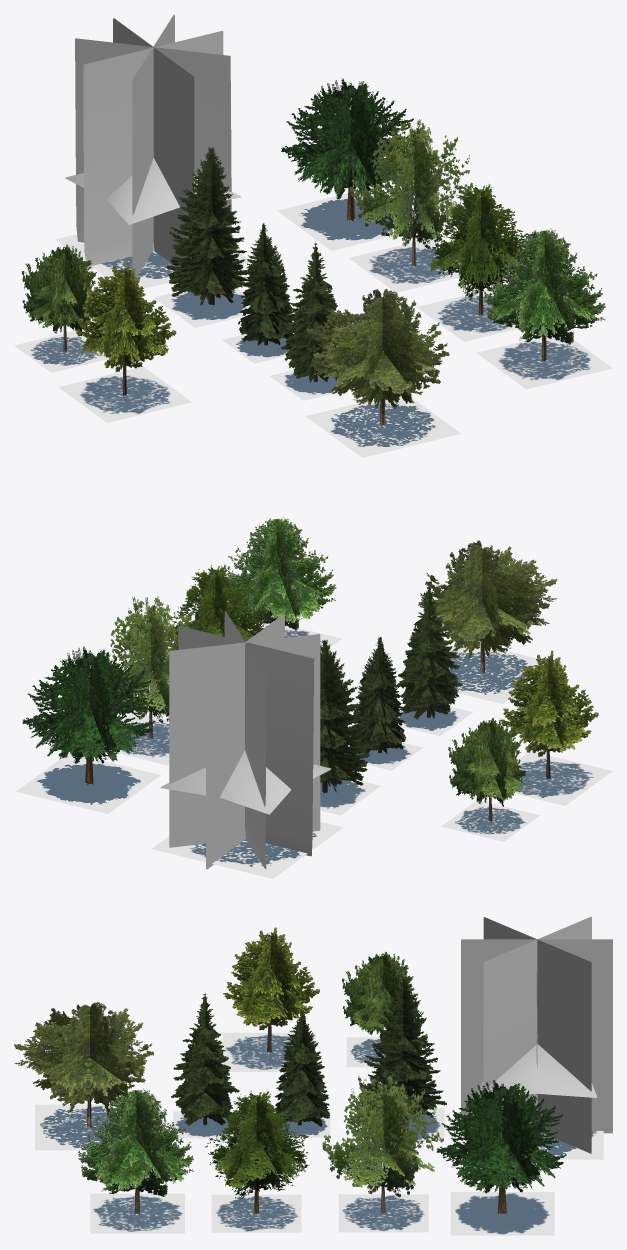
File: Low_Poly_Forest_Pack.fbx
3 renders of one model, top to bottom at view 1: azimuth 30°, elevation 25°; view 2: azimuth 150°, elevation 25°; view 3: azimuth 270°, elevation 25°, orthographic. The views are drawn at different scales.
Visible parts, largest first — view 1: Elm_Tree_Mesh, Maple_Tree_Mesh, Sugar_Maple_Mesh, Beech_Tree_Mesh, AmericanPlane_Tree_Mesh, Pine02, Oak_Tree_Mesh, Corktree_Tree_Mesh, Maple_Tree_Shadow, Birch_Tree_Mesh, Pine01, Corktree_Tree_Shadow (+10 smaller); view 2: Elm_Tree_Mesh, Sugar_Maple_Mesh, Maple_Tree_Mesh, AmericanPlane_Tree_Mesh, Corktree_Tree_Mesh, Beech_Tree_Mesh, Pine03, Pine02, Birch_Tree_Mesh, Sugar_Maple_Shadow, Oak_Tree_Mesh, Pine01 (+8 smaller); view 3: Elm_Tree_Mesh, Maple_Tree_Mesh, Sugar_Maple_Mesh, Beech_Tree_Mesh, AmericanPlane_Tree_Mesh, Oak_Tree_Mesh, Corktree_Tree_Mesh, Pine02, Pine03, Sugar_Maple_Shadow, Pine01, AmericanPlane_Shadow (+10 smaller).
Boxes of the visible parts, <box> form: Elm_Tree_Mesh: <box>65,14,241,277</box>; Maple_Tree_Mesh: <box>306,289,449,425</box>; Sugar_Maple_Mesh: <box>281,78,413,221</box>; Beech_Tree_Mesh: <box>350,119,475,266</box>; AmericanPlane_Tree_Mesh: <box>484,228,605,361</box>; Pine02: <box>166,147,248,305</box>; Oak_Tree_Mesh: <box>427,182,531,315</box>; Corktree_Tree_Mesh: <box>74,262,176,395</box>; Maple_Tree_Shadow: <box>305,395,460,457</box>; Birch_Tree_Mesh: <box>21,244,99,351</box>; Pine01: <box>238,223,293,345</box>; Corktree_Tree_Shadow: <box>58,366,191,422</box>; Elm_Tree_Mesh: <box>160,611,331,869</box>; Sugar_Maple_Mesh: <box>22,646,155,784</box>; Maple_Tree_Mesh: <box>418,540,557,673</box>; AmericanPlane_Tree_Mesh: <box>226,517,336,630</box>; Corktree_Tree_Mesh: <box>499,650,598,779</box>; Beech_Tree_Mesh: <box>89,596,204,739</box>; Pine03: <box>395,581,462,719</box>; Pine02: <box>320,639,370,793</box>; Birch_Tree_Mesh: <box>448,718,528,821</box>; Sugar_Maple_Shadow: <box>16,752,160,813</box>; Oak_Tree_Mesh: <box>167,564,268,649</box>; Pine01: <box>351,637,406,754</box>; Elm_Tree_Mesh: <box>461,917,612,1163</box>; Maple_Tree_Mesh: <box>14,1002,153,1128</box>; Sugar_Maple_Mesh: <box>436,1080,566,1213</box>; Beech_Tree_Mesh: <box>322,1075,443,1213</box>; AmericanPlane_Tree_Mesh: <box>78,1088,193,1213</box>; Oak_Tree_Mesh: <box>205,1089,309,1213</box>; Corktree_Tree_Mesh: <box>223,927,319,1052</box>; Pine02: <box>361,977,446,1125</box>; Pine03: <box>171,993,239,1125</box>; Sugar_Maple_Shadow: <box>450,1192,554,1235</box>; Pine01: <box>274,1009,329,1129</box>; AmericanPlane_Shadow: <box>90,1193,184,1233</box>.
Bounding box in the file's own units: 28.9 × 12.11 × 33.99.
